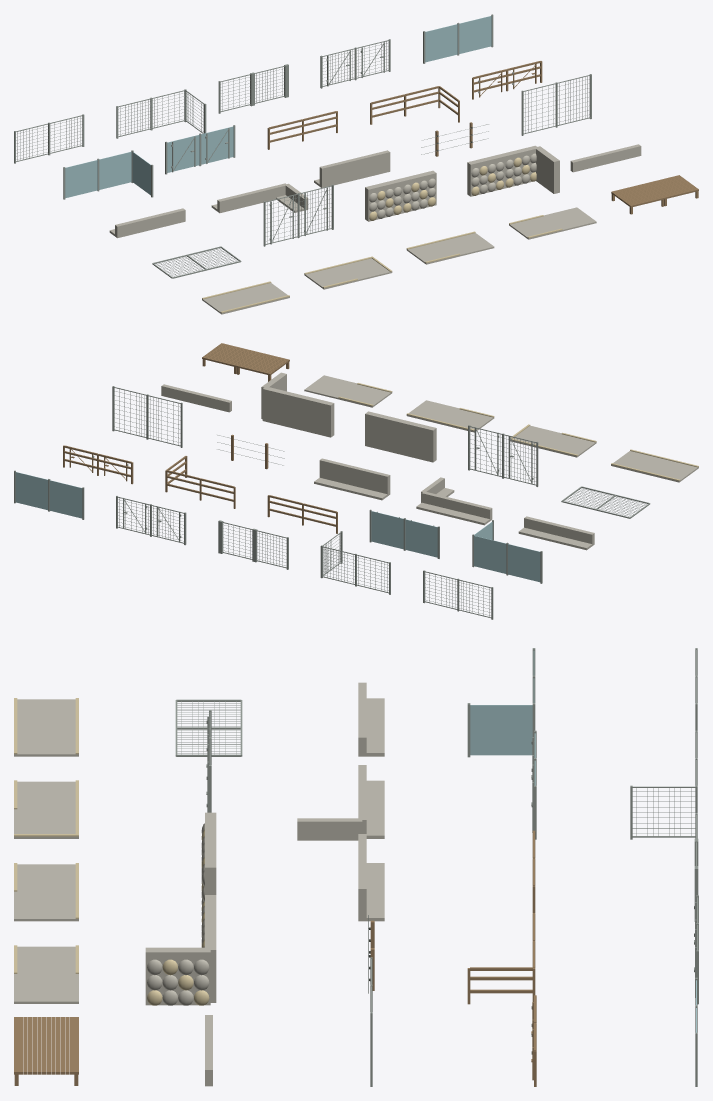
The model's file is zoo-and-safari-park-builder-connector-cases-33bff395__21529.glb.
The picture shows the model from 3 angles, top to bottom: view 1: azimuth 30°, elevation 25°; view 2: azimuth 150°, elevation 25°; view 3: azimuth 270°, elevation 25°; orthographic projection. The views are drawn at different scales.
Visible parts, largest first — view 1: 037-rock-wall-corner/0, 011-glass-viewing-corner/1, 034-rock-wall-straight/0, 036-rock-wall-straight/0, 035-rock-wall-straight/0, 033-netting-aviary-door/0, 003-mesh-fence-corner/0, 008-glass-viewing-straight/1, 010-glass-viewing-straight/1, 009-glass-viewing-straight/1, 013-glass-viewing-gate/1, 012-glass-viewing-gate/1 (+31 smaller); view 2: 037-rock-wall-corner/0, 036-rock-wall-straight/0, 034-rock-wall-straight/0, 035-rock-wall-straight/0, 011-glass-viewing-corner/1, 008-glass-viewing-straight/1, 032-netting-aviary-door/0, 024-ha-ha-wall/0, 012-glass-viewing-gate/1, 009-glass-viewing-straight/1, 010-glass-viewing-straight/1, 013-glass-viewing-gate/1 (+32 smaller); view 3: 037-rock-wall-corner/0, 011-glass-viewing-corner/1, 023-dry-moat-edge-corner/0, 049-boardwalk/0, 047-path-cross/0, 045-path-t/0, 048-boardwalk/0, 041-path-straight/0, 043-path-corner/0, 042-path-straight/0, 040-path-straight/0, 044-path-straight/0 (+12 smaller).
Boxes of the visible parts, x1,y1,x2,y2 form: 037-rock-wall-corner/0: [502, 145, 559, 193]; 011-glass-viewing-corner/1: [99, 151, 150, 195]; 034-rock-wall-straight/0: [365, 179, 402, 221]; 036-rock-wall-straight/0: [467, 154, 504, 196]; 035-rock-wall-straight/0: [399, 170, 436, 213]; 033-netting-aviary-door/0: [297, 184, 333, 237]; 003-mesh-fence-corner/0: [150, 89, 206, 133]; 008-glass-viewing-straight/1: [425, 24, 457, 62]; 010-glass-viewing-straight/1: [65, 160, 97, 198]; 009-glass-viewing-straight/1: [459, 16, 491, 53]; 013-glass-viewing-gate/1: [201, 126, 233, 164]; 012-glass-viewing-gate/1: [167, 134, 199, 172]; 037-rock-wall-corner/0: [261, 372, 299, 429]; 036-rock-wall-straight/0: [296, 394, 334, 437]; 034-rock-wall-straight/0: [399, 419, 436, 462]; 035-rock-wall-straight/0: [365, 411, 401, 454]; 011-glass-viewing-corner/1: [474, 521, 506, 573]; 008-glass-viewing-straight/1: [49, 480, 82, 518]; 032-netting-aviary-door/0: [502, 434, 538, 486]; 024-ha-ha-wall/0: [348, 466, 390, 500]; 012-glass-viewing-gate/1: [405, 519, 437, 557]; 009-glass-viewing-straight/1: [15, 472, 47, 510]; 010-glass-viewing-straight/1: [508, 544, 540, 582]; 013-glass-viewing-gate/1: [371, 511, 403, 549]; 037-rock-wall-corner/0: [145, 922, 216, 1005]; 011-glass-viewing-corner/1: [470, 678, 534, 755]; 023-dry-moat-edge-corner/0: [297, 792, 384, 840]; 049-boardwalk/0: [14, 1044, 78, 1085]; 047-path-cross/0: [14, 974, 78, 1003]; 045-path-t/0: [14, 891, 78, 921]; 048-boardwalk/0: [14, 1017, 78, 1044]; 041-path-straight/0: [14, 727, 78, 756]; 043-path-corner/0: [14, 809, 78, 838]; 042-path-straight/0: [17, 781, 75, 809]; 040-path-straight/0: [17, 699, 75, 726]; 044-path-straight/0: [17, 864, 75, 891].
Bounding box in the file's own units: 28.08 × 2.5 × 21.08.
